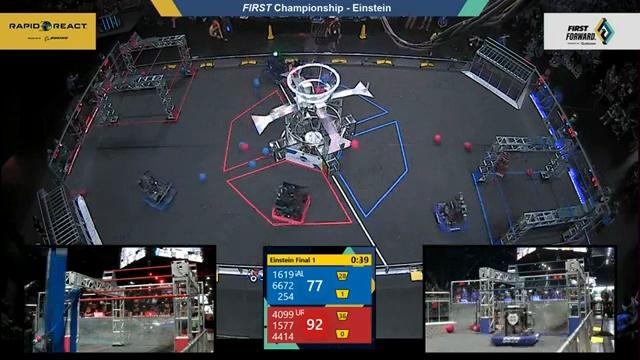robot: (269, 180, 316, 226), (492, 304, 541, 347), (134, 169, 179, 211), (431, 191, 474, 234)
